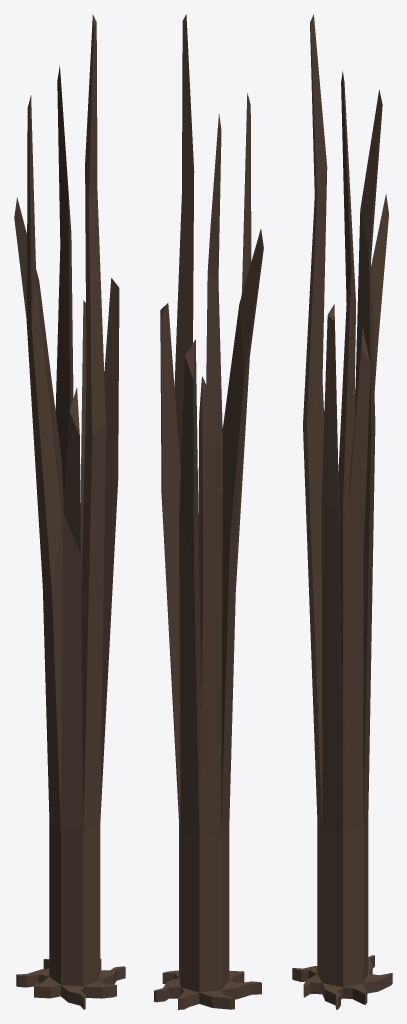
Rendered from Tree_Trunk_0.3_0.3_0.3_Colored.fbx.
3 views of the same model, side by side, from view 1: azimuth 30°, elevation 25°; view 2: azimuth 210°, elevation 25°; view 3: azimuth 270°, elevation 25° (orthographic).
Parts seen in each view (by area): view 1: Tree_Trunk_0_3_0_3_3; view 2: Tree_Trunk_0_3_0_3_3; view 3: Tree_Trunk_0_3_0_3_3.
Boxes of the visible parts, <box> form: Tree_Trunk_0_3_0_3_3: <box>14,14,125,1009</box>; Tree_Trunk_0_3_0_3_3: <box>154,14,263,1009</box>; Tree_Trunk_0_3_0_3_3: <box>292,14,392,1009</box>.
Size of the model in its own units: 30.17 by 302 by 28.16.
